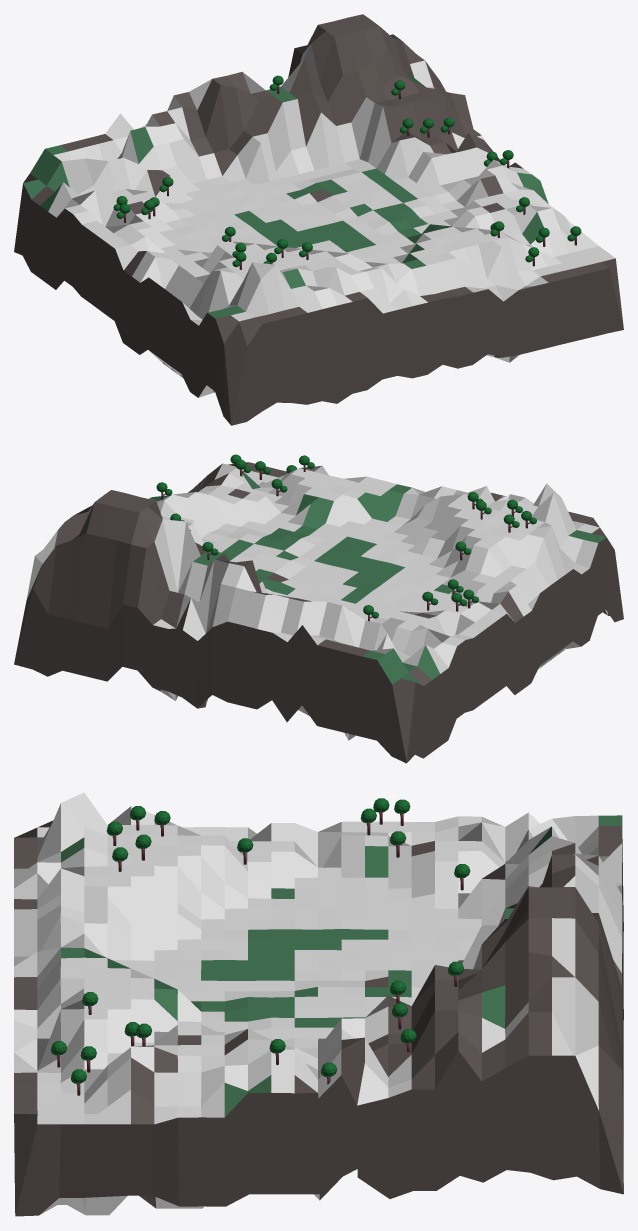
The model's file is plain_terrain_1.fbx.
3 renders of one model, top to bottom at view 1: azimuth 30°, elevation 25°; view 2: azimuth 150°, elevation 25°; view 3: azimuth 270°, elevation 25°, orthographic. The views are drawn at different scales.
Visible parts, largest first — view 1: Plane; view 2: Plane; view 3: Plane.
Boxes of the visible parts, x1,y1,x2,y2 form: Plane: (14, 14, 623, 425); Plane: (14, 462, 623, 763); Plane: (14, 792, 623, 1216).
Size of what is drawn, in the model's own units: 14478 by 6894 by 13814.
